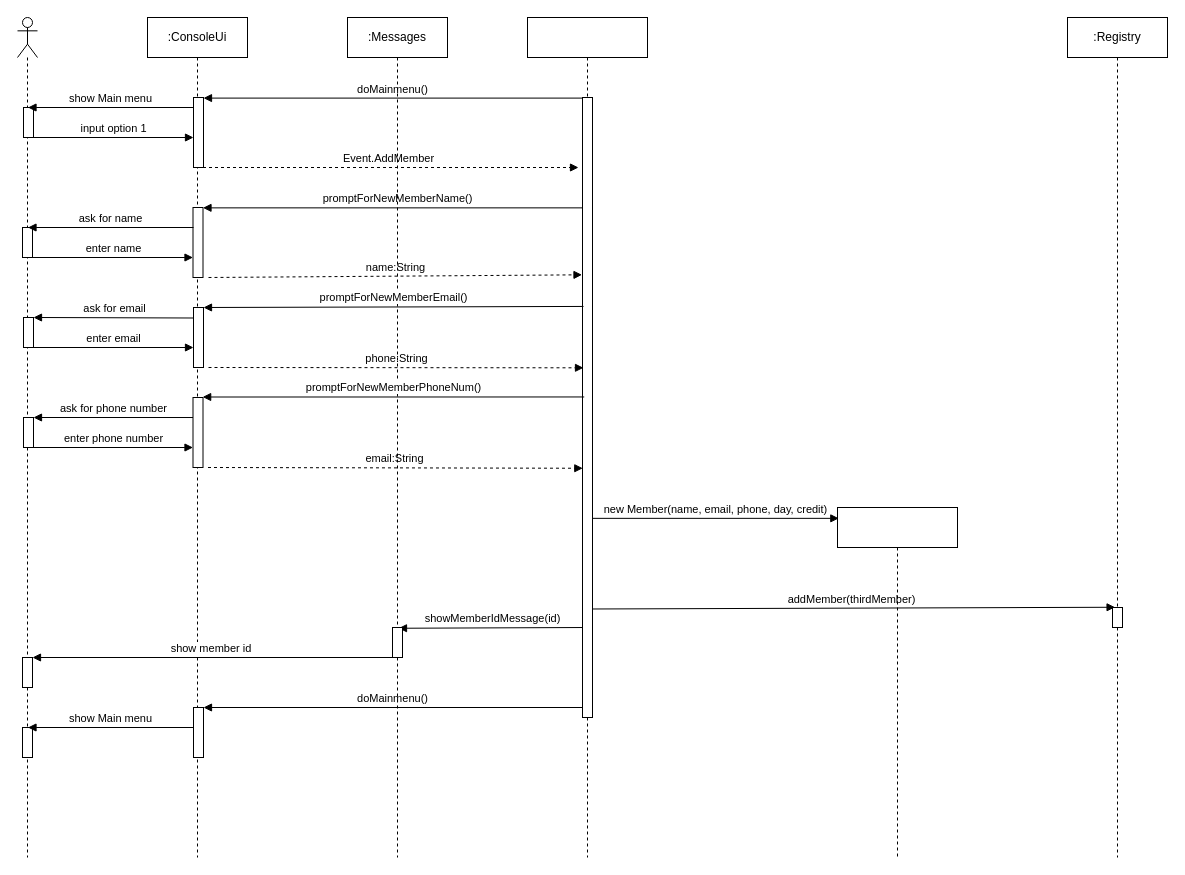
Image size: 1185x875. Some labels were removed from this diagram. Each missing label, with the box of its shape:
:LendingManagement: (526, 16, 648, 858)
thirdMember:Member: (836, 506, 958, 858)
